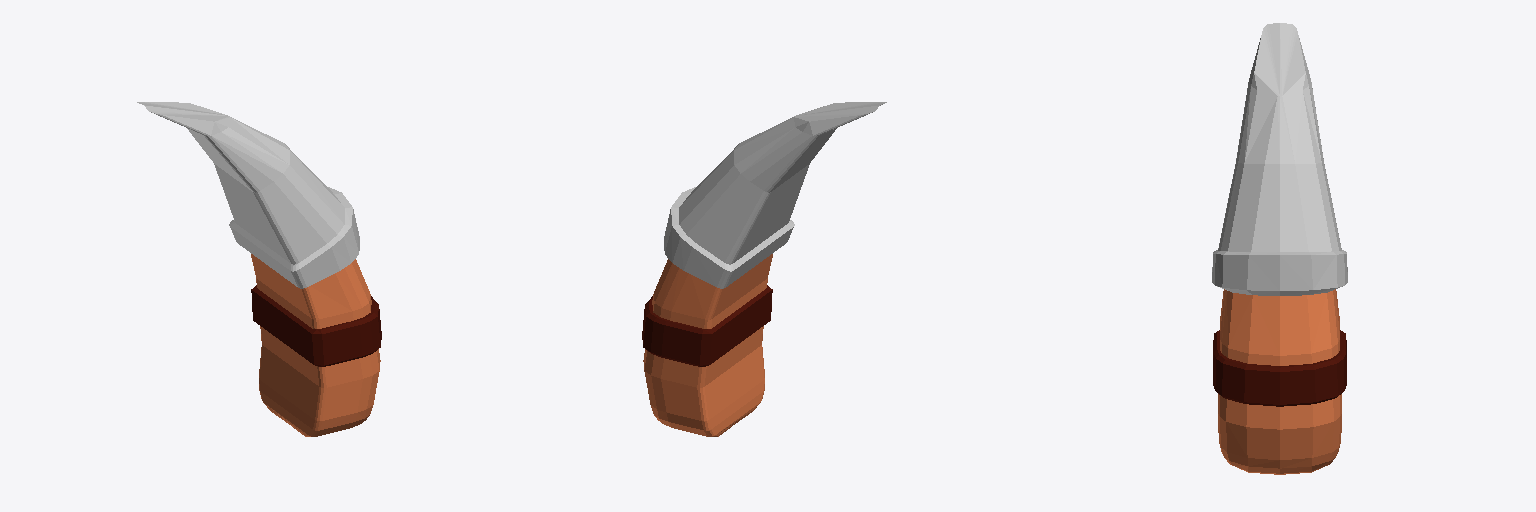
File: character_blacksmithArmLeft.obj
The picture shows the model from 3 angles: view 1: azimuth 30°, elevation 25°; view 2: azimuth 150°, elevation 25°; view 3: azimuth 270°, elevation 25°; orthographic projection.
Parts seen in each view (by area): view 1: character_blacksmithArmLeft_Cube.009; view 2: character_blacksmithArmLeft_Cube.009; view 3: character_blacksmithArmLeft_Cube.009.
Part boxes in pixels (left/top/right/bottom): character_blacksmithArmLeft_Cube.009: left=137, top=102, right=381, bottom=436; character_blacksmithArmLeft_Cube.009: left=642, top=102, right=886, bottom=436; character_blacksmithArmLeft_Cube.009: left=1212, top=23, right=1347, bottom=474.
Bounding box in the file's own units: 0.3811 × 0.5708 × 0.1971.